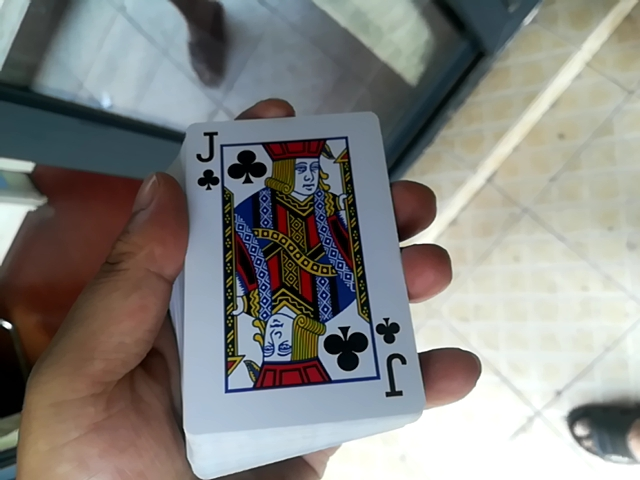mh j: (182, 62, 424, 452)
